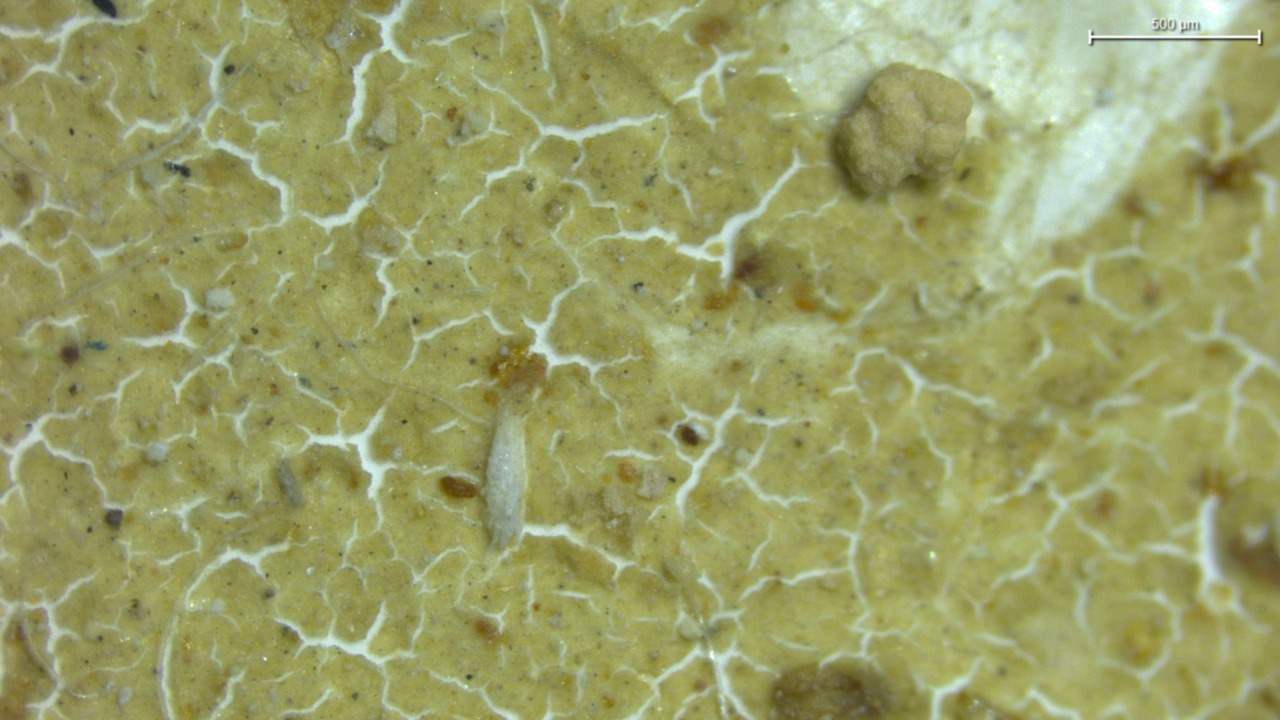microplastic_fragment: (837, 63, 974, 195), (481, 396, 531, 561)
